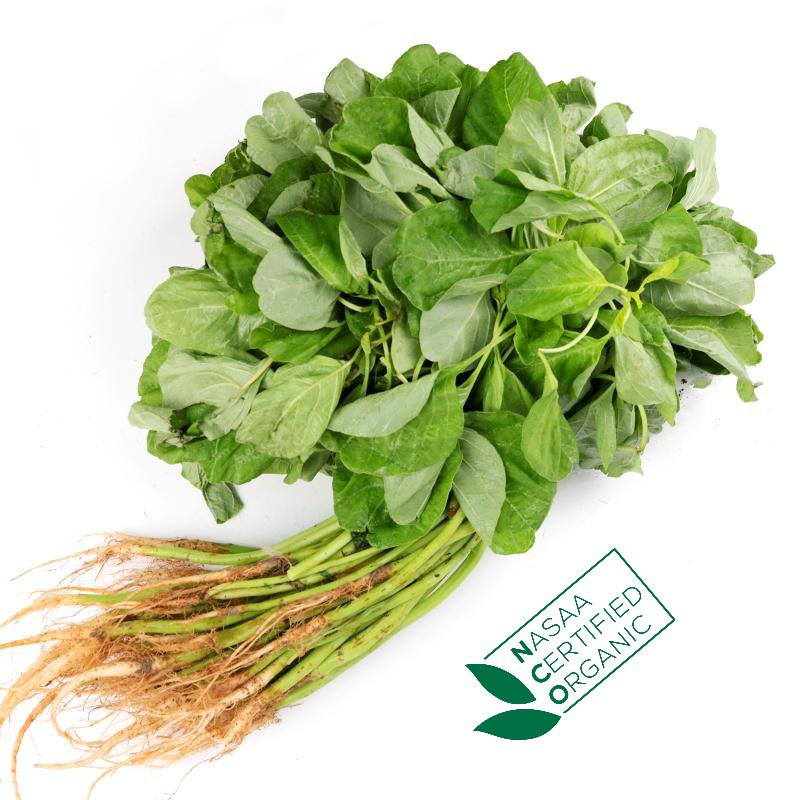Bayam: (26, 16, 471, 800)
